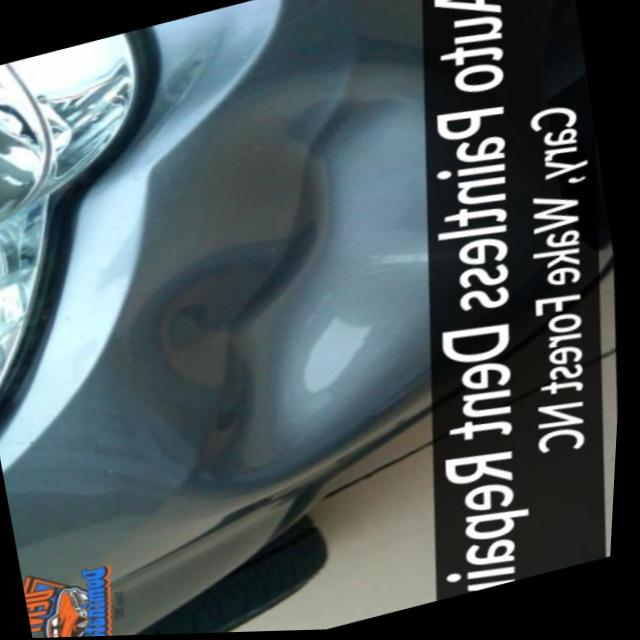Dent: (134, 191, 417, 476)
